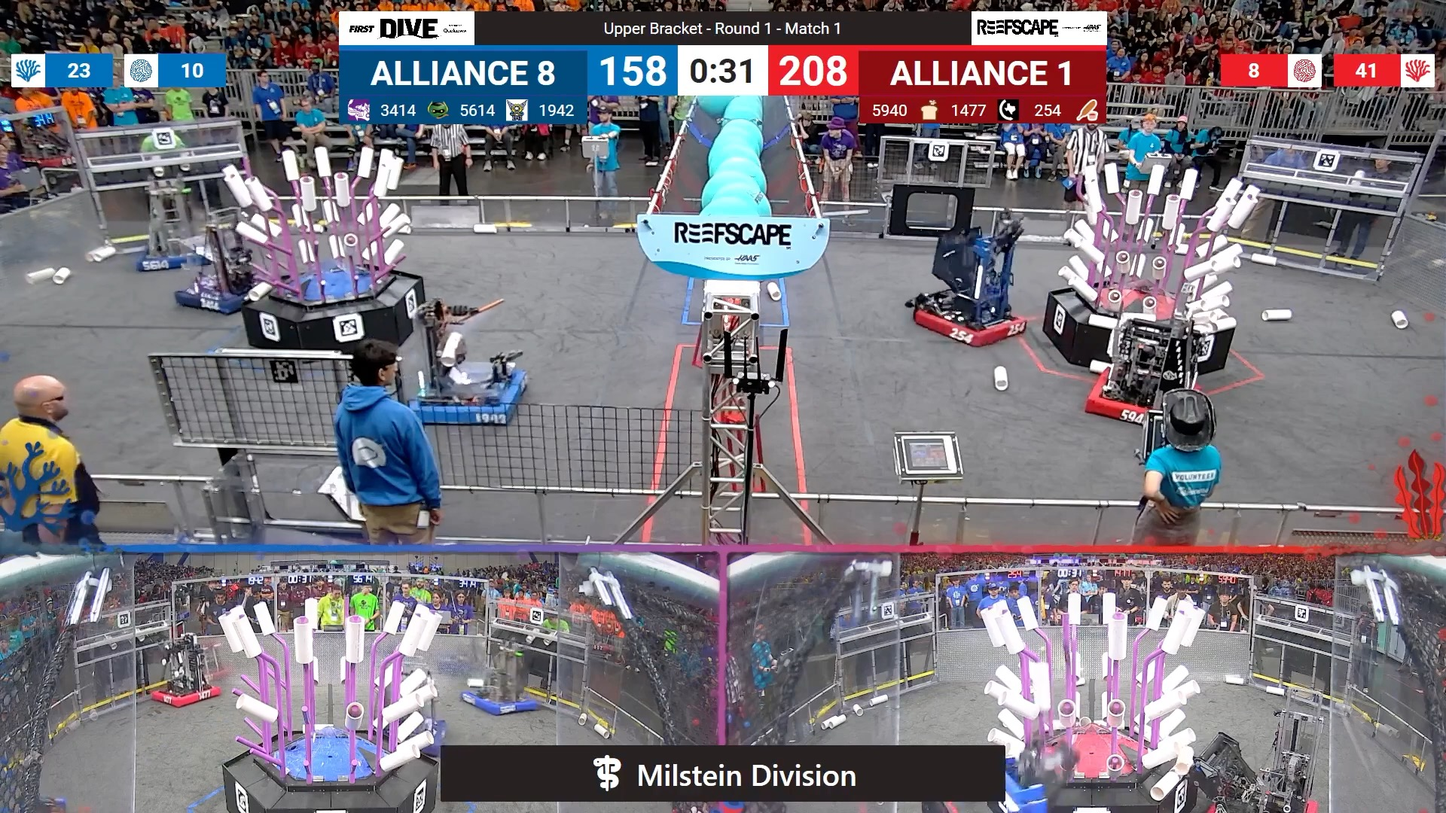bumpers: (403, 365, 537, 430), (1076, 369, 1197, 427), (905, 299, 1031, 352), (174, 276, 272, 320), (1192, 785, 1327, 813), (455, 689, 543, 722), (128, 243, 215, 276), (148, 680, 228, 711)
